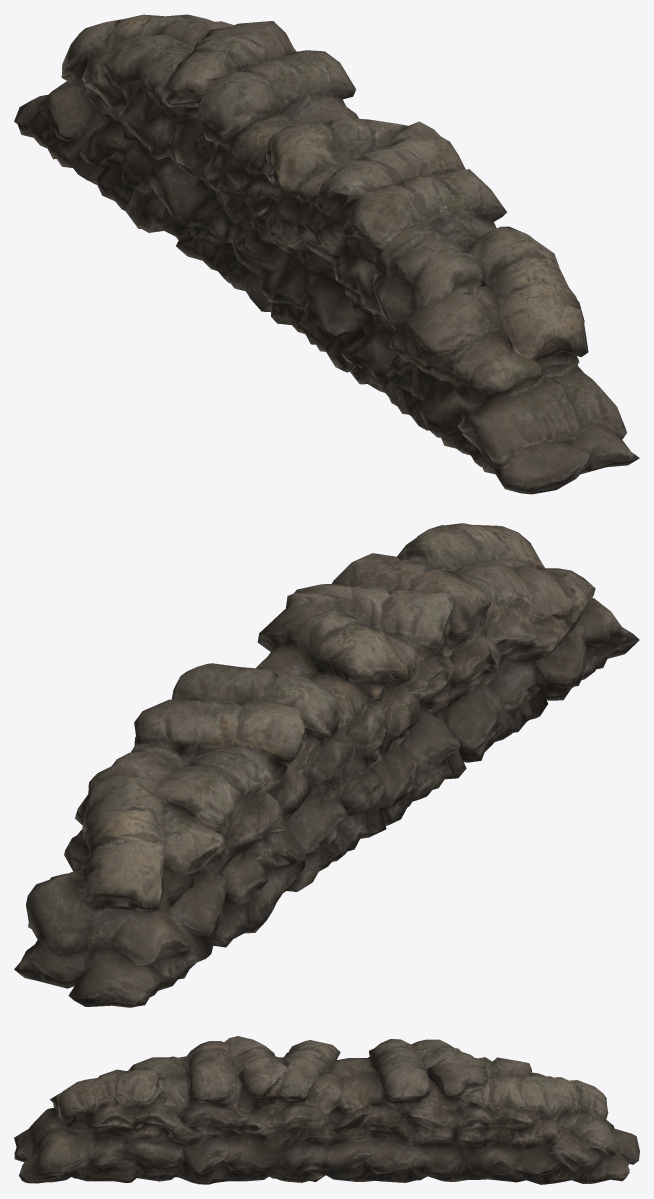
File: SM_Sandbags01.glb
3 views of the same model, one above another, from view 1: azimuth 30°, elevation 25°; view 2: azimuth 150°, elevation 25°; view 3: azimuth 270°, elevation 25° (orthographic). The views are drawn at different scales.
Parts seen in each view (by area): view 1: SM_Sandbags01; view 2: SM_Sandbags01; view 3: SM_Sandbags01.
Part boxes in pixels (x1,y1,x2,y2): SM_Sandbags01: (14, 14, 639, 494); SM_Sandbags01: (14, 523, 639, 1007); SM_Sandbags01: (14, 1036, 639, 1184).
Bounding box in the file's own units: 1.17 × 1.31 × 6.12.
Materials: 1 (1 with a texture image).
